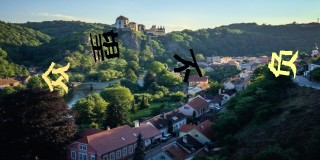不: (173, 49, 203, 82)
众: (41, 60, 71, 93)
望: (89, 30, 120, 62)
负: (267, 49, 298, 79)
